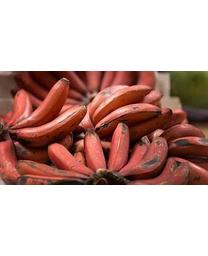banana: (0, 77, 207, 184)
